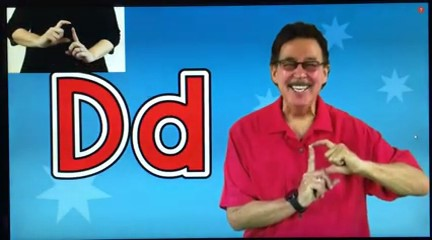D: (297, 136, 364, 204), (41, 17, 91, 65)
